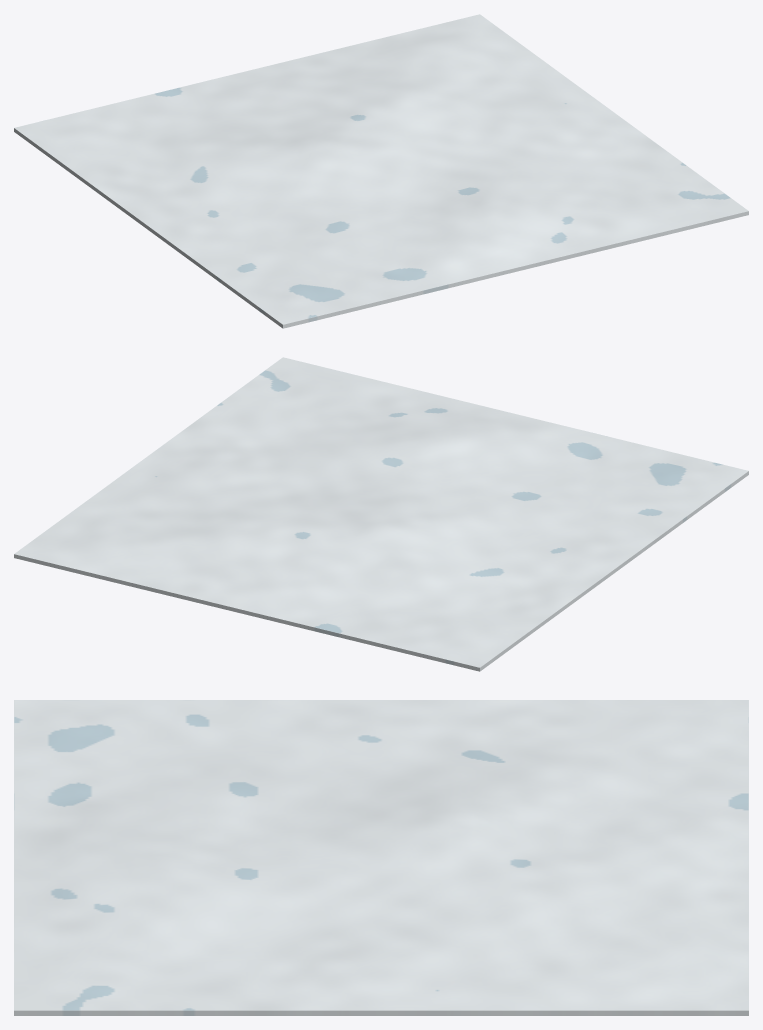
The model's file is Snow_Flat_10.obj.
3 renders of one model, top to bottom at view 1: azimuth 30°, elevation 25°; view 2: azimuth 150°, elevation 25°; view 3: azimuth 270°, elevation 25°, orthographic. The views are drawn at different scales.
Size of the model in its own units: 10 by 0.3161 by 10.
Materials: 1 (1 with a texture image).
